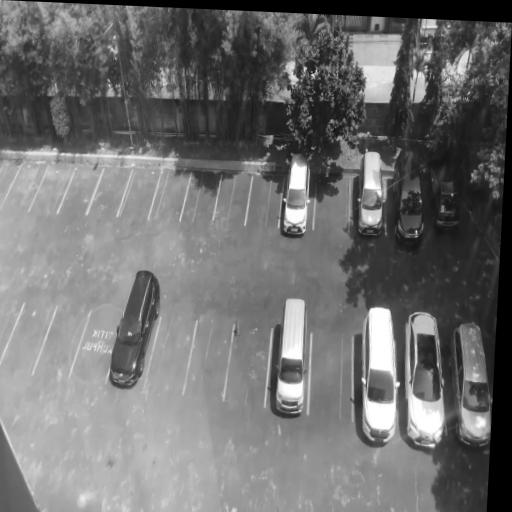Car: (104, 268, 165, 391), (402, 312, 449, 448), (448, 321, 490, 446), (359, 309, 398, 439), (271, 297, 310, 418), (390, 148, 428, 252), (279, 144, 315, 240), (424, 154, 467, 227), (354, 152, 386, 236)
Space Available: (32, 305, 90, 378), (223, 321, 272, 406), (183, 319, 233, 399), (308, 334, 353, 422), (145, 316, 197, 392), (0, 303, 56, 372), (68, 310, 120, 383), (313, 171, 351, 238), (0, 161, 48, 213), (244, 174, 284, 234), (29, 165, 76, 216), (58, 167, 103, 219), (180, 171, 221, 228), (148, 170, 192, 222), (87, 170, 131, 221), (213, 173, 254, 227), (117, 170, 161, 219), (0, 301, 24, 359), (0, 156, 21, 208)
